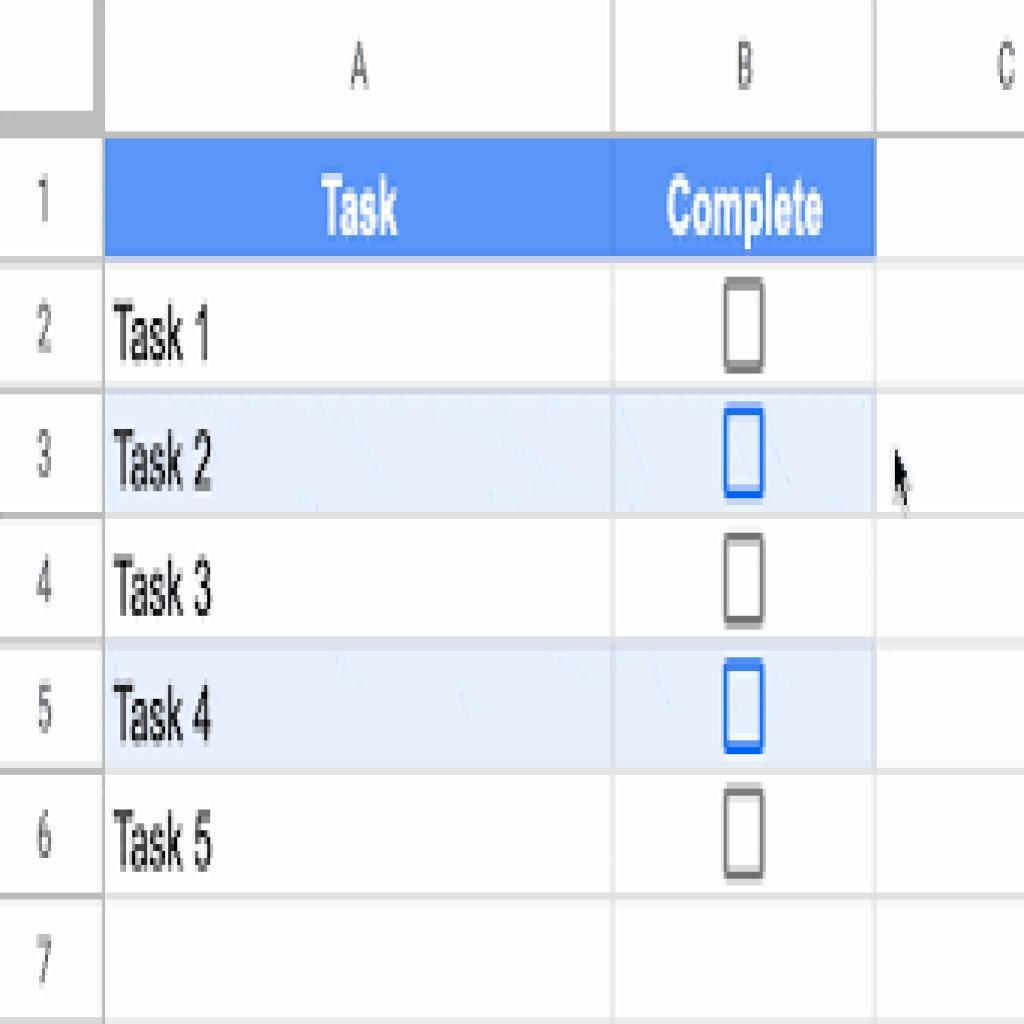checkbox: (721, 659, 768, 756), (723, 406, 768, 502), (722, 534, 767, 628), (723, 786, 767, 879), (726, 278, 767, 376)
table: (101, 132, 880, 908)
